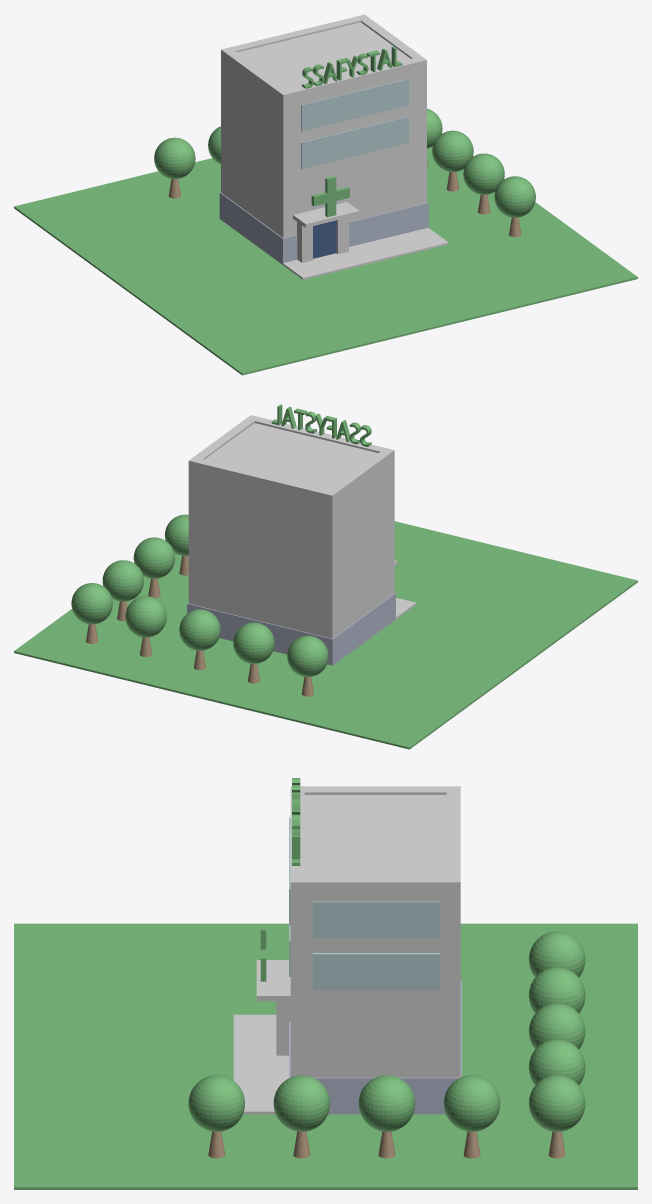
File: HospitalOutside.glb
3 views of the same model, one above another, from view 1: azimuth 30°, elevation 25°; view 2: azimuth 150°, elevation 25°; view 3: azimuth 270°, elevation 25° (orthographic). The views are drawn at different scales.
Parts seen in each view (by area): view 1: Mesh_Mesh_head_geo.001_lambert2SG.001; view 2: Mesh_Mesh_head_geo.001_lambert2SG.001; view 3: Mesh_Mesh_head_geo.001_lambert2SG.001.
Part boxes in pixels (x1,y1,x2,y2): Mesh_Mesh_head_geo.001_lambert2SG.001: [14, 14, 637, 375]; Mesh_Mesh_head_geo.001_lambert2SG.001: [14, 404, 637, 749]; Mesh_Mesh_head_geo.001_lambert2SG.001: [14, 778, 637, 1189].
Size of the model in its own units: 220 by 101 by 220.
